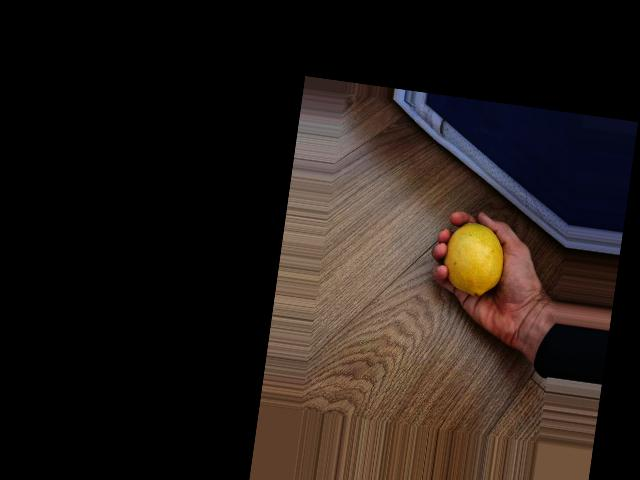lemon: (437, 219, 508, 300)
